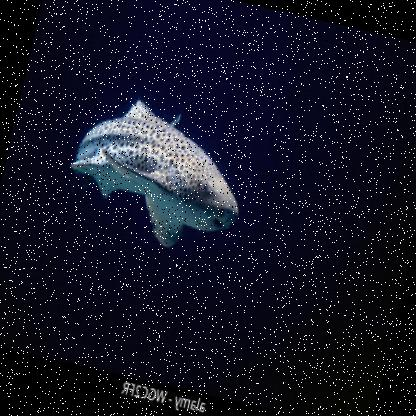zebra_shark: (46, 64, 276, 264)
